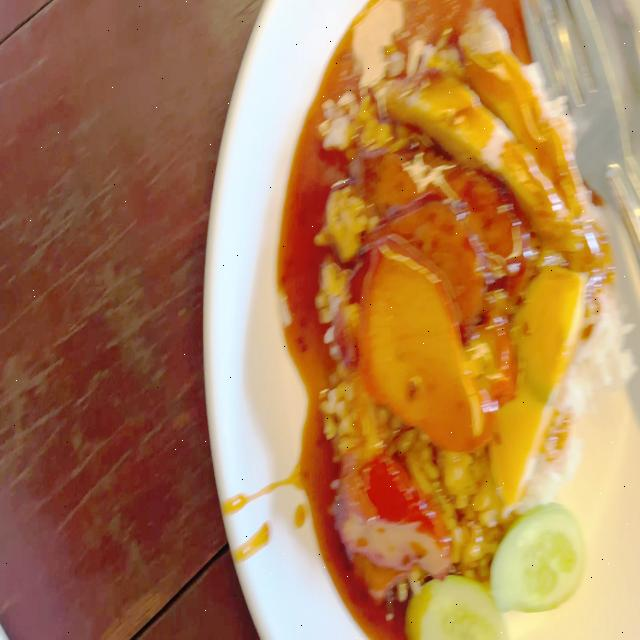boiled_egg: (502, 261, 580, 507)
chainese_sausage: (401, 142, 516, 312)
chicken_rice: (423, 18, 587, 232)
cucumber: (494, 500, 586, 607), (396, 572, 496, 640)
red_pork: (374, 251, 475, 440), (348, 442, 453, 560)
red_pork_and_crispy_pork: (321, 24, 614, 624)
